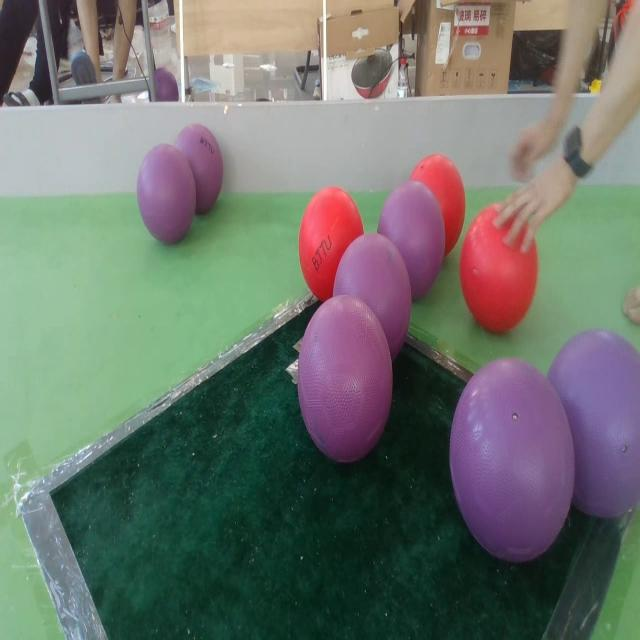invalid: (446, 355, 570, 564), (548, 322, 640, 514), (299, 299, 389, 458), (333, 232, 414, 354), (379, 178, 444, 300), (137, 144, 199, 240), (174, 125, 225, 218)
red: (460, 200, 538, 336), (299, 186, 363, 301), (411, 156, 466, 255)
